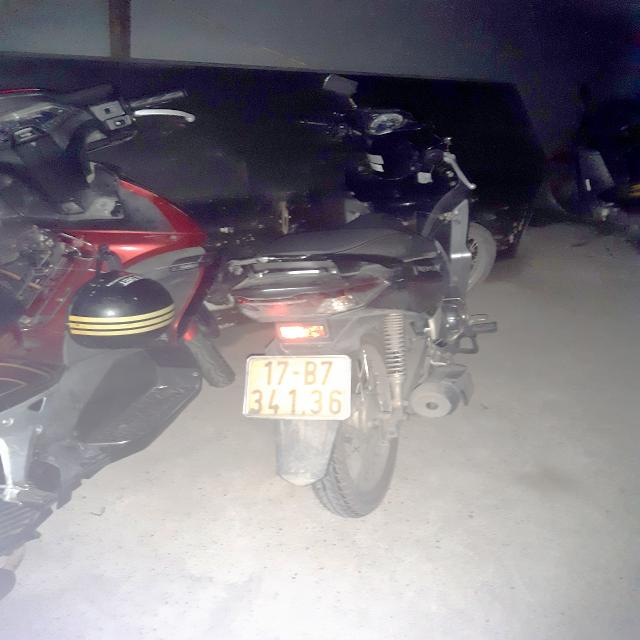license_plate: (236, 353, 359, 426)
